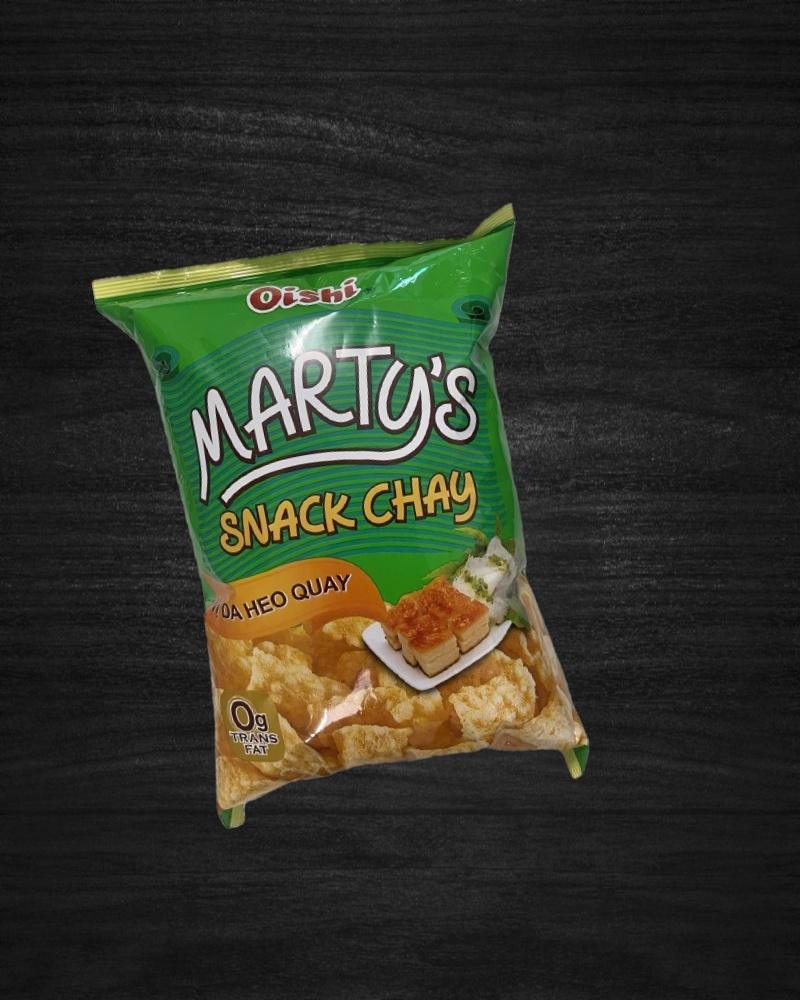Snack chay: (91, 202, 614, 848)
